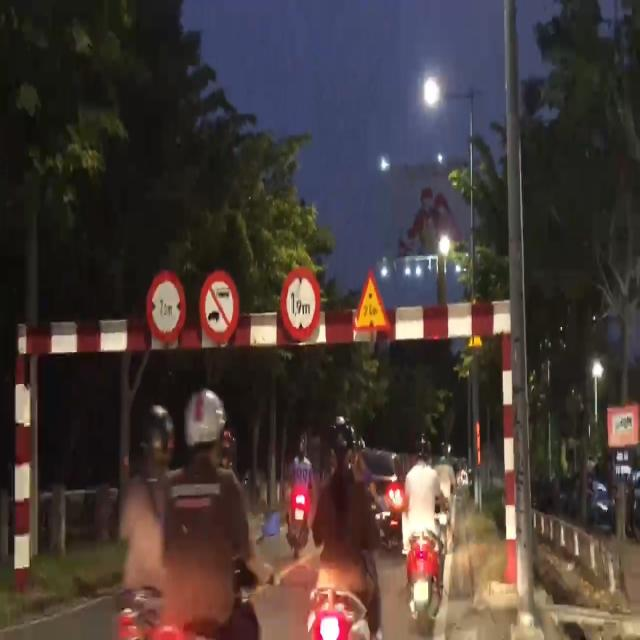Bien bao cam xe oto khach va xe oto tai: (199, 267, 240, 350)
Bien bao chieu cao tinh khong thuc te: (350, 262, 391, 338)
Bien bao han che chieu cao: (279, 260, 322, 350)
